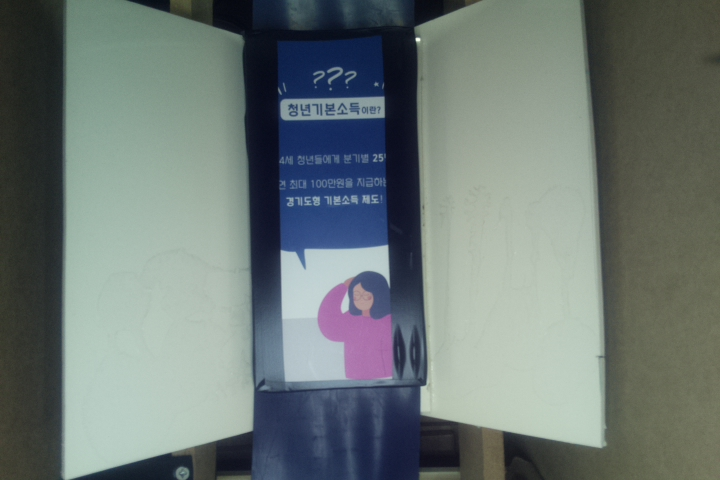book: (243, 24, 426, 392)
